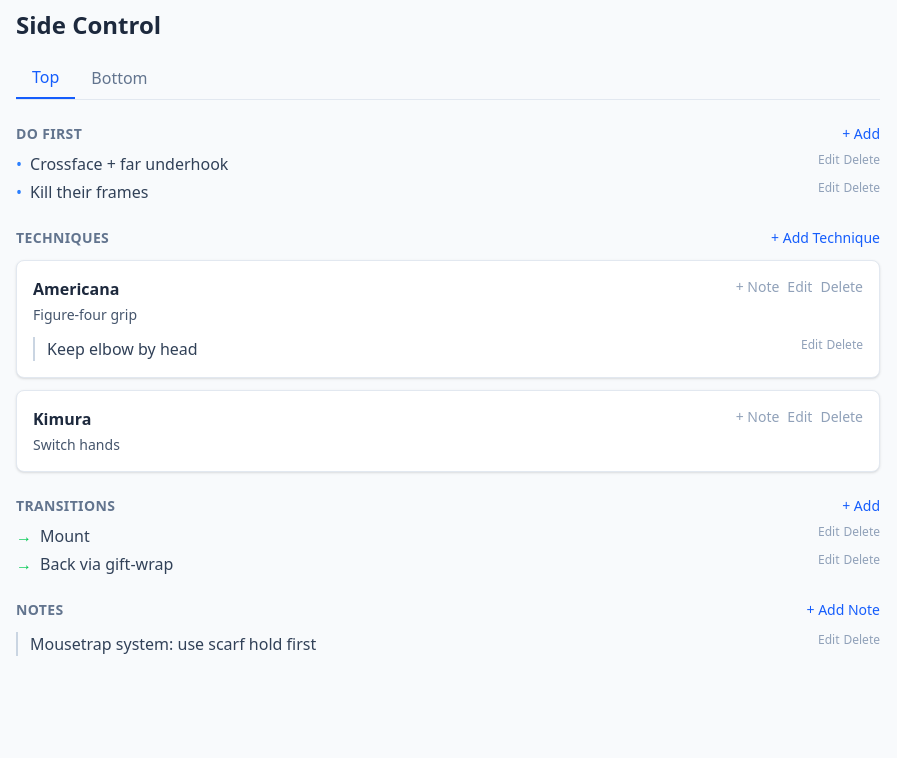
Test: PositionView › opens Do First form when "+ Add" clicked
What coordinates should you click on to do the following:
click the button "+ Add" in the row of "Do First"
I would click on:
 (861, 134)
Its box is [842,124,880,144].
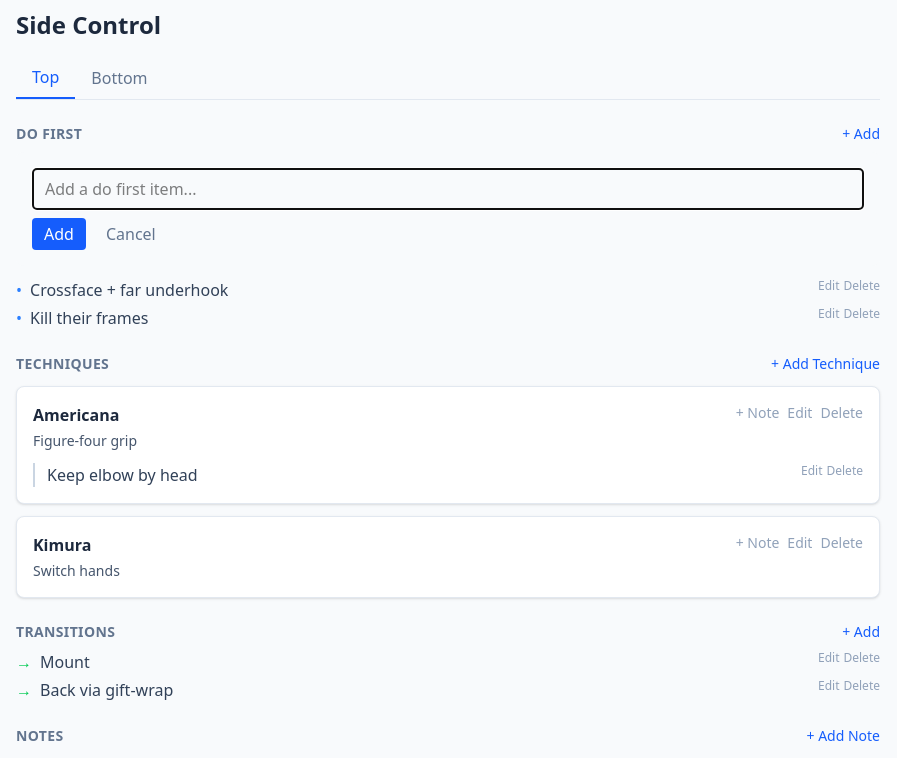
Check: the field with placeholder "Add a do first item..." is shown, box [32,168,864,210]
